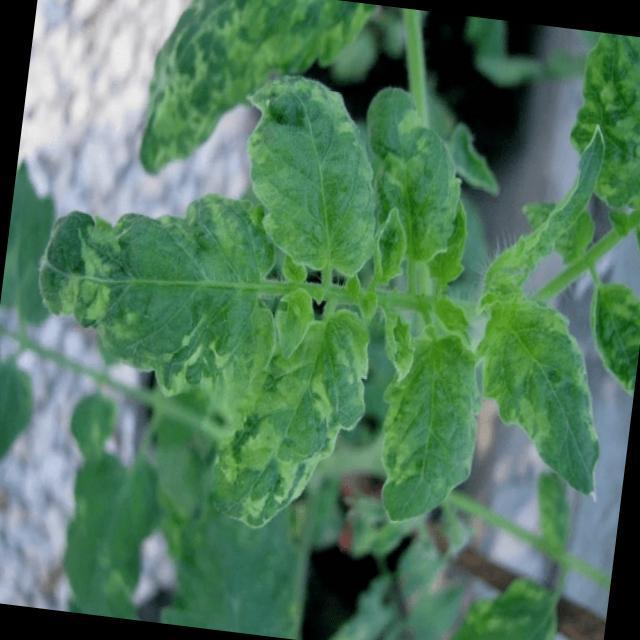Tomato mosaic virus leaf: (10, 168, 296, 416), (134, 0, 380, 206), (211, 288, 379, 542), (224, 66, 400, 281), (458, 284, 622, 502), (367, 323, 492, 537), (348, 70, 477, 272), (556, 29, 640, 214)
